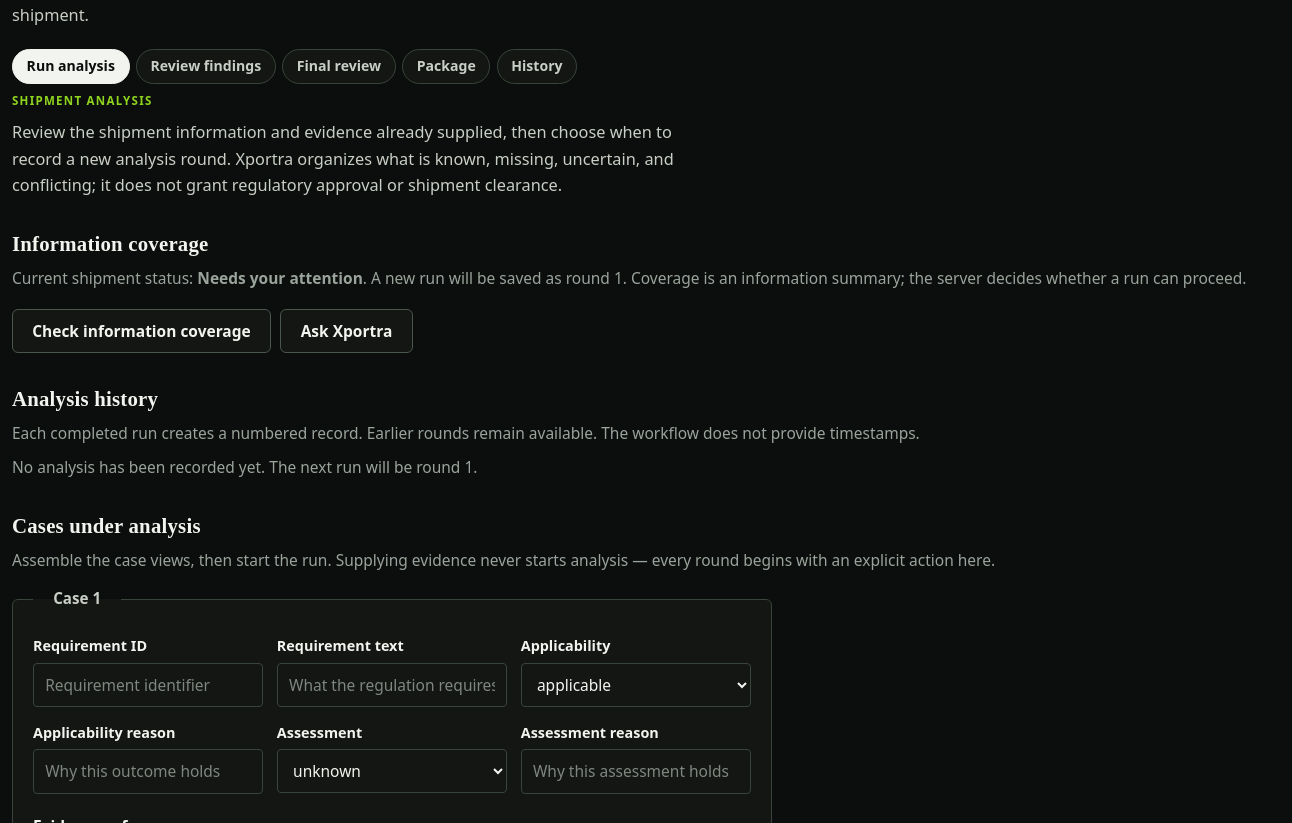
it: AssessmentPage › moves between stages without losing backend state
Click the tab "Final review".
click(339, 66)  # box [282, 48, 396, 84]
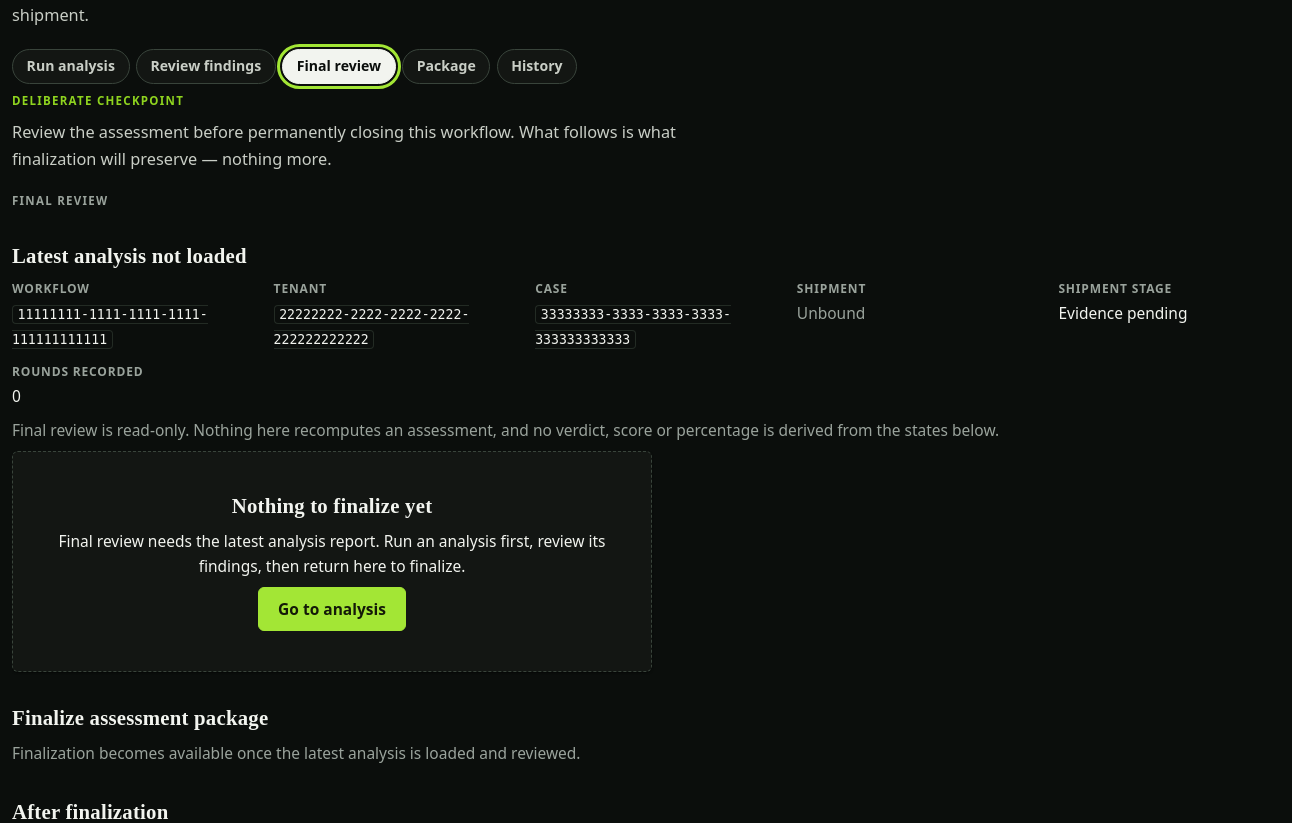
Expected: the heading "Latest analysis not loaded" is shown, [12, 244, 247, 267]
Click the tab "History".
click(537, 66)  # box [497, 48, 577, 84]
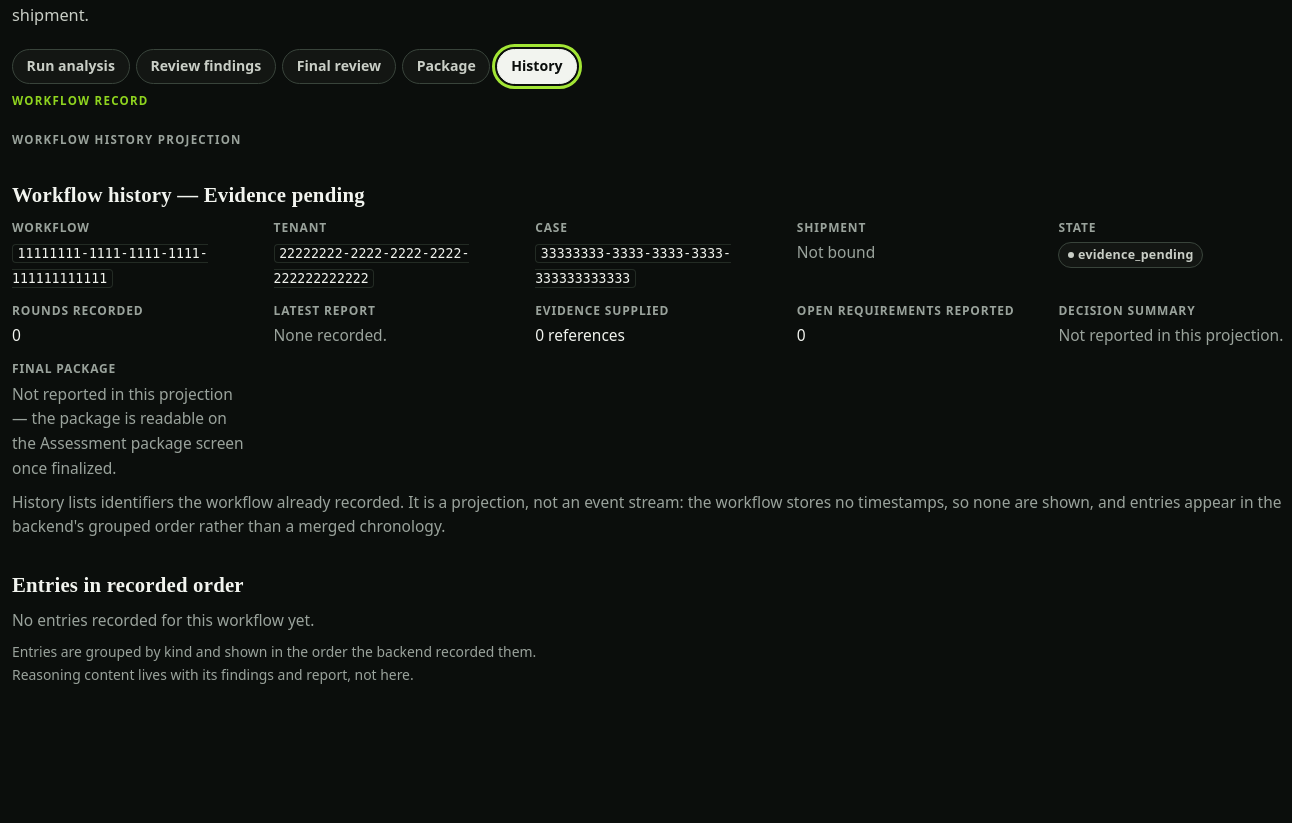
Expected: the heading "Workflow history — Evidence pending" is shown, [12, 183, 365, 206]
Click the tab "Run analysis".
click(71, 66)  # box [12, 48, 130, 84]
(page scrolled)
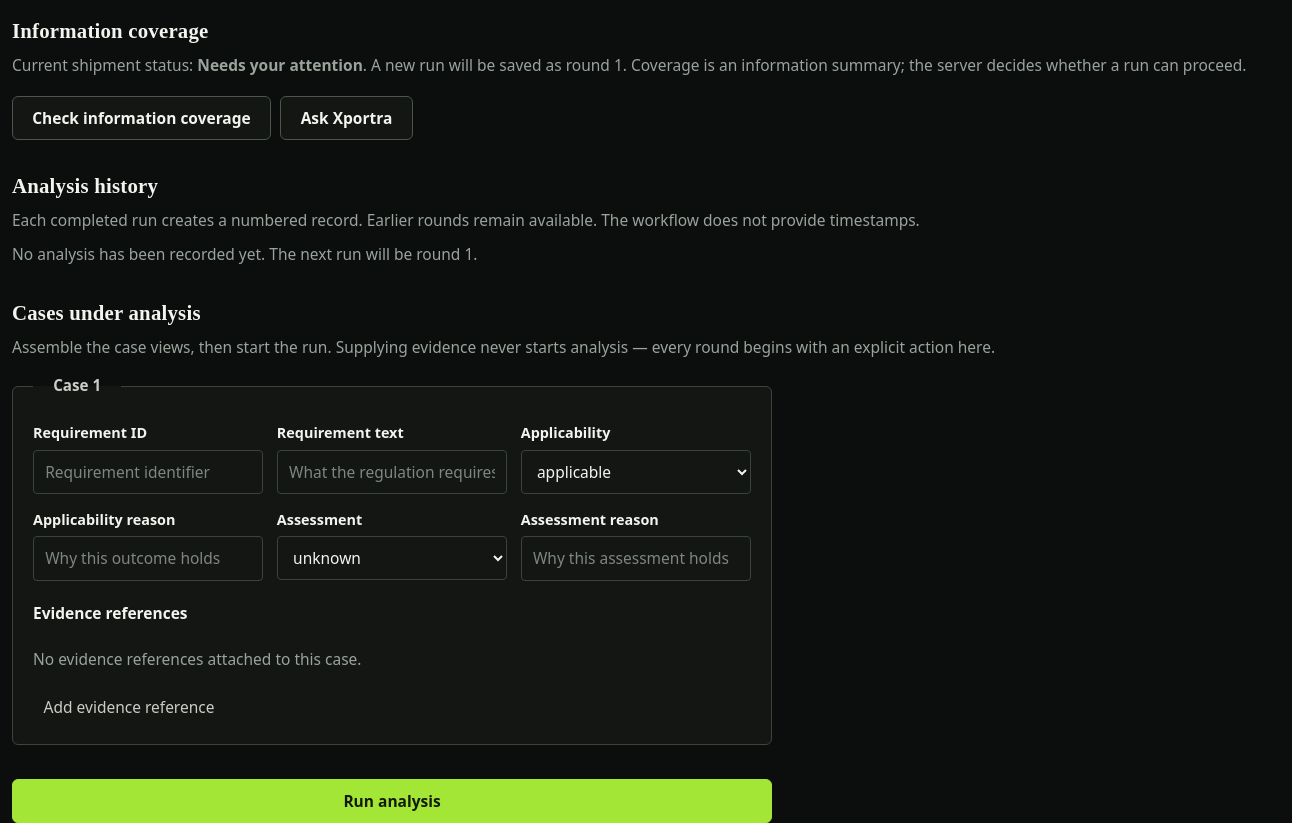
Expected: the heading "Information coverage" is shown, [12, 19, 208, 42]
Expected: the button "Run analysis" is shown, [12, 779, 772, 822]
